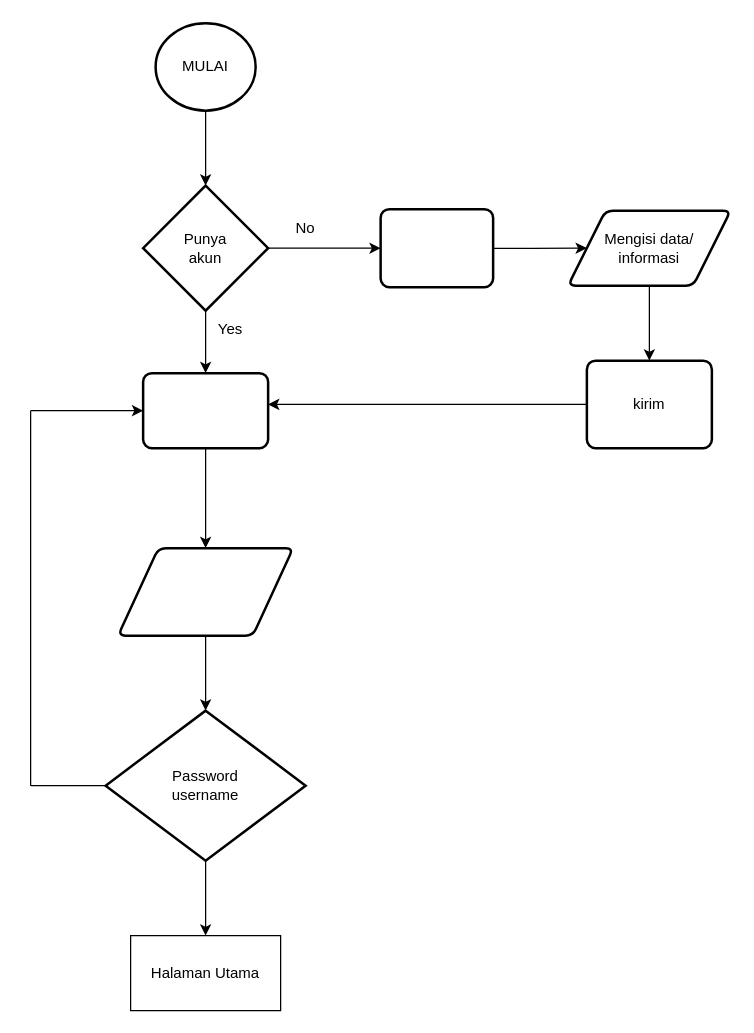
Some shapes in this 754 by 1033 pixel diagram are drawn without their labels. The shapes that lost their labels are listed below. From the top down, each one's box as (x1, y1, x2, y2) in pixels, then its label:
(379, 207, 494, 288): Masuk
(141, 371, 269, 449): LOGIN
(116, 546, 294, 636): Memasukkan username dan pass
